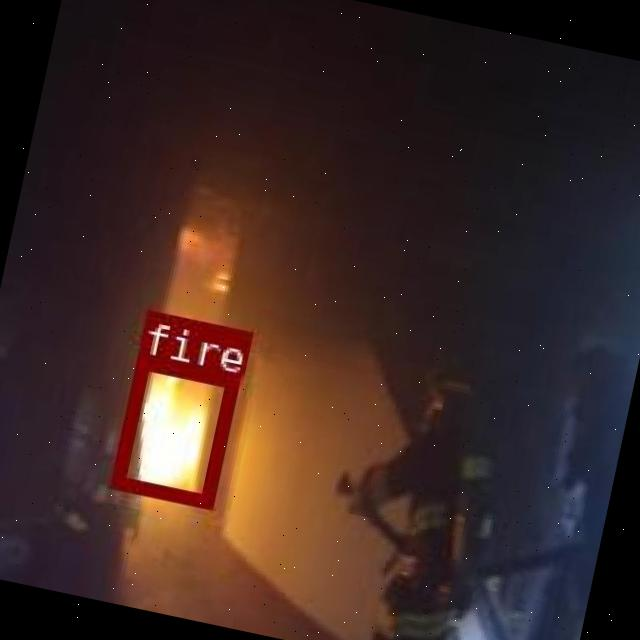fire: (110, 354, 236, 505)
